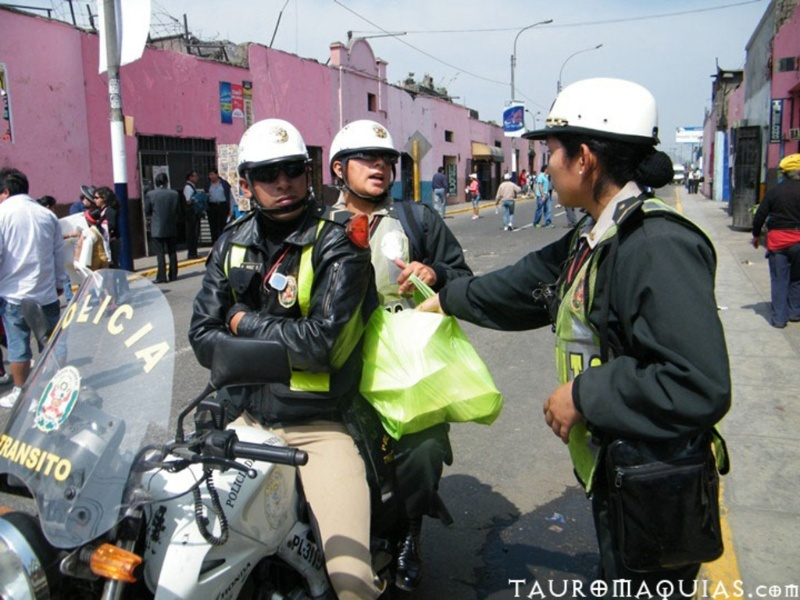Baret: (525, 76, 662, 147), (235, 118, 314, 168), (328, 118, 400, 172)
